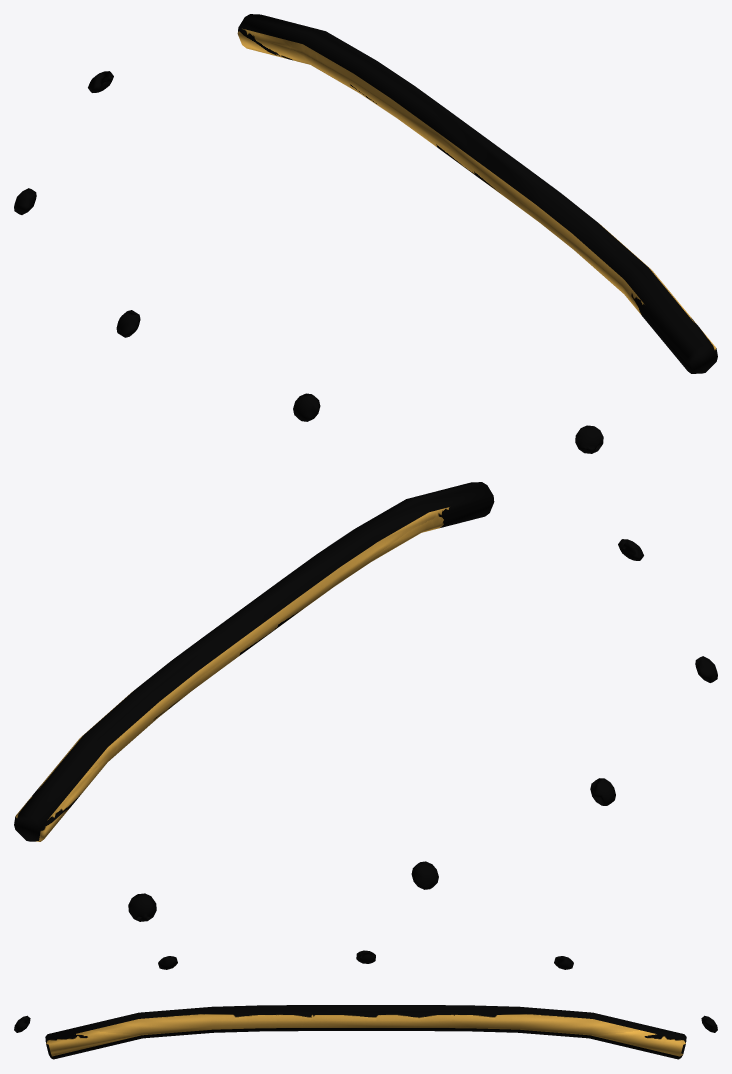
Rendered from Centinela_HombreraDer_Oro.fbx.
3 views of the same model, one above another, from view 1: azimuth 30°, elevation 25°; view 2: azimuth 150°, elevation 25°; view 3: azimuth 270°, elevation 25° (orthographic). The views are drawn at different scales.
Visible parts, largest first — view 1: Centinela_HombreraDer_Oro; view 2: Centinela_HombreraDer_Oro; view 3: Centinela_HombreraDer_Oro.
Part boxes in pixels (box(x1,y1,x2,y2)): Centinela_HombreraDer_Oro: box(14, 14, 717, 453); Centinela_HombreraDer_Oro: box(14, 482, 717, 921); Centinela_HombreraDer_Oro: box(14, 950, 717, 1059).
Bounding box in the file's own units: 0.4614 × 0.132 × 1.07.
